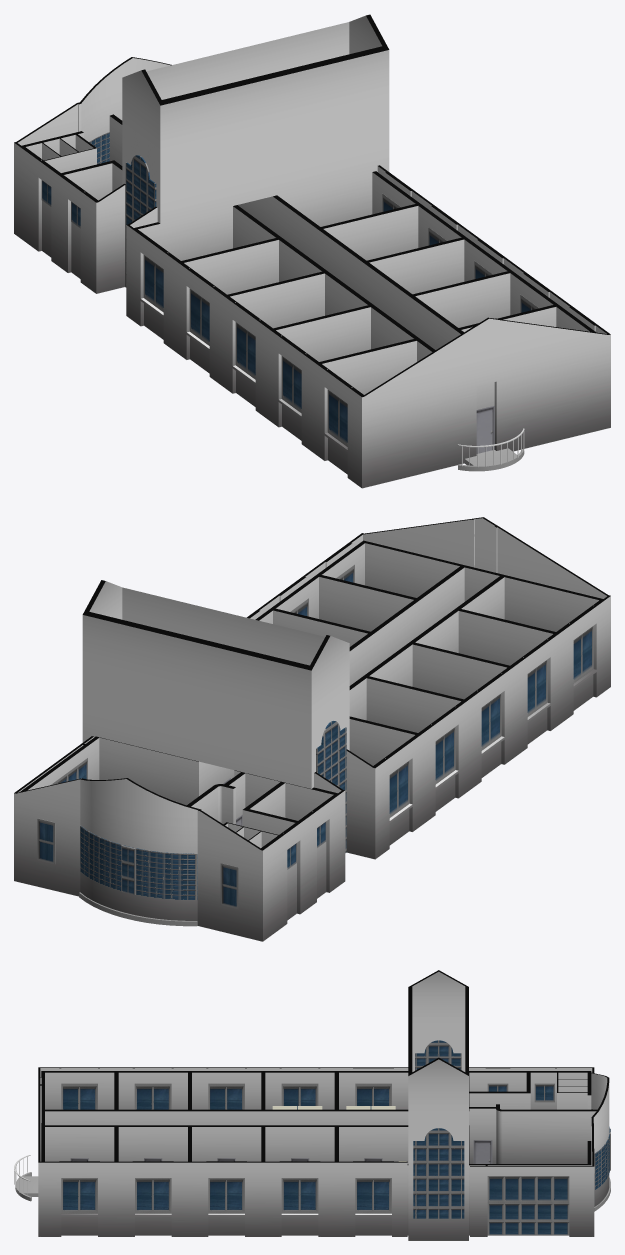
The model's file is soubrain_T1-10-2F.glb.
3 views of the same model, one above another, from view 1: azimuth 30°, elevation 25°; view 2: azimuth 150°, elevation 25°; view 3: azimuth 270°, elevation 25° (orthographic). The views are drawn at different scales.
Visible parts, largest first — view 1: Box253, T1-10-2F, Line664; view 2: Box253, T1-10-2F, Line664; view 3: Box253, T1-10-2F, Line664, Box2089.
Boxes of the visible parts, x1,y1,x2,y2 form: Box253: (14, 14, 610, 488); T1-10-2F: (41, 132, 566, 466); Line664: (458, 448, 524, 471); Box253: (14, 517, 610, 941); T1-10-2F: (37, 564, 593, 908); Line664: (79, 892, 197, 926); Box253: (38, 970, 609, 1240); T1-10-2F: (14, 1040, 610, 1235); Line664: (15, 1172, 610, 1211); Box2089: (272, 1106, 406, 1161).
Size of the model in its own units: 11.71 by 9.82 by 29.26.
Materials: 8 (7 with a texture image).
